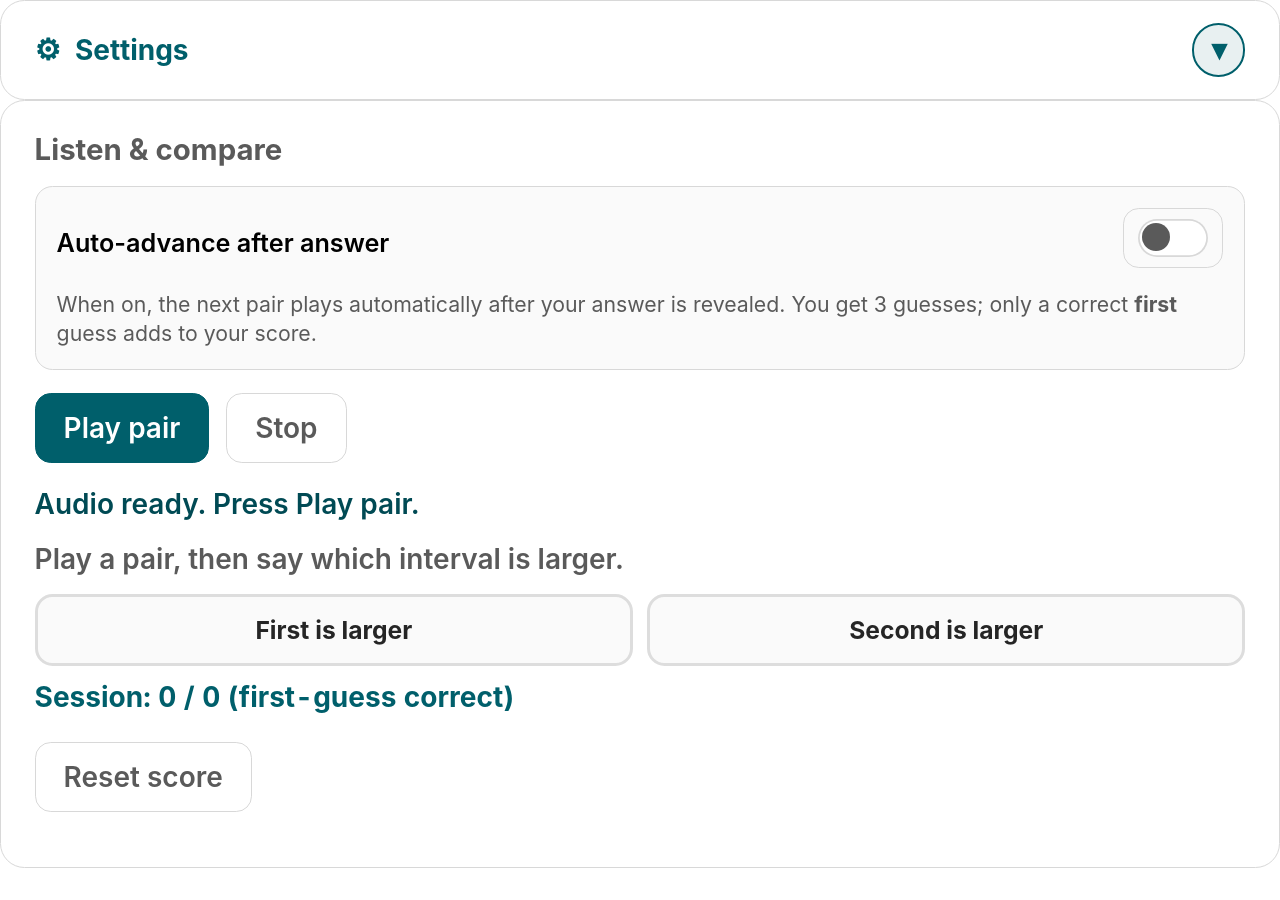
Test case: IntervalComparisonTopic — first-guess scoring (docs/05-topics/08 §7) › counts a first-try correct answer as total+1, correct+1
Click the button "Play pair" at [122, 428], box [35,393,209,463]
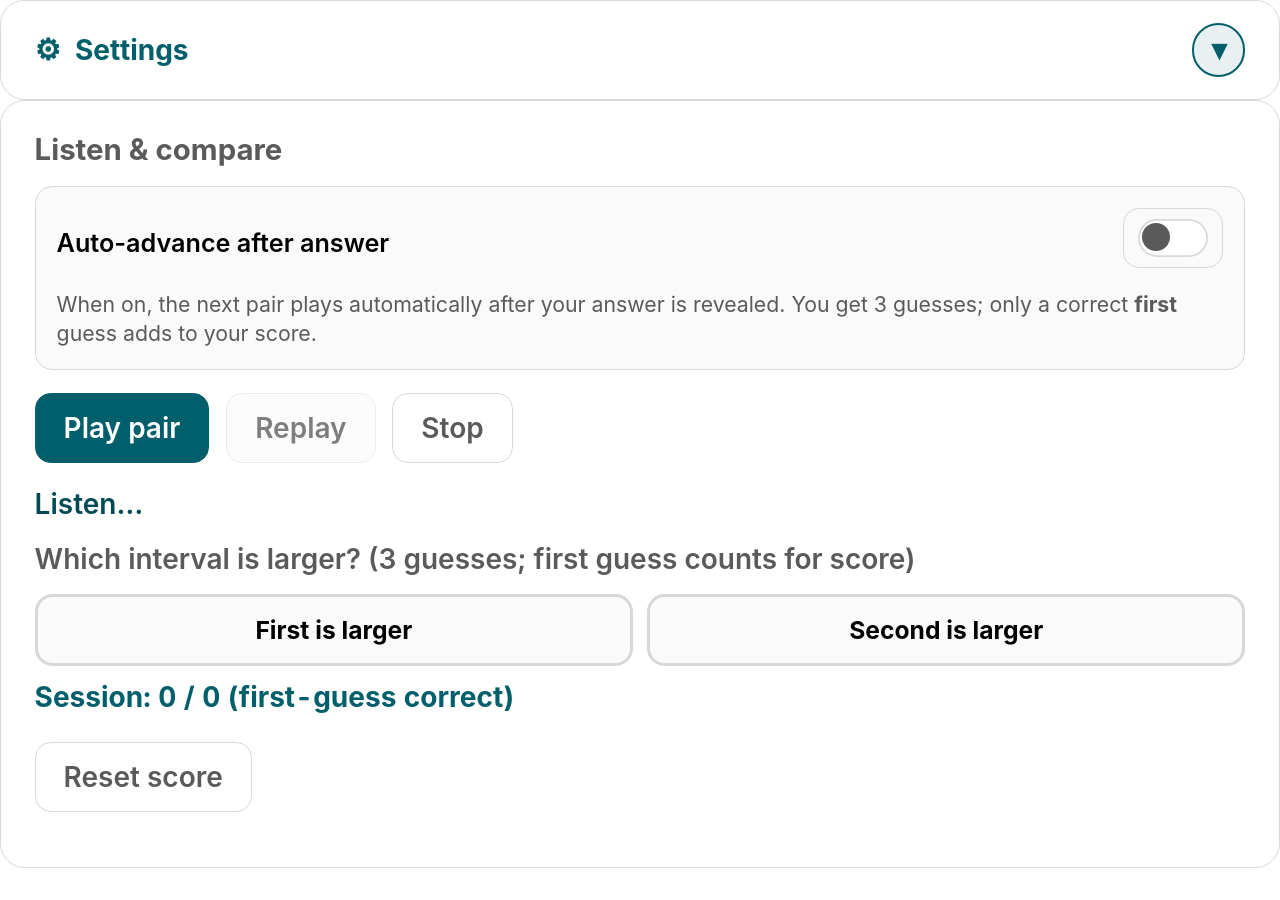
Click the button "Second is larger" at [946, 630], box [647,594,1245,666]
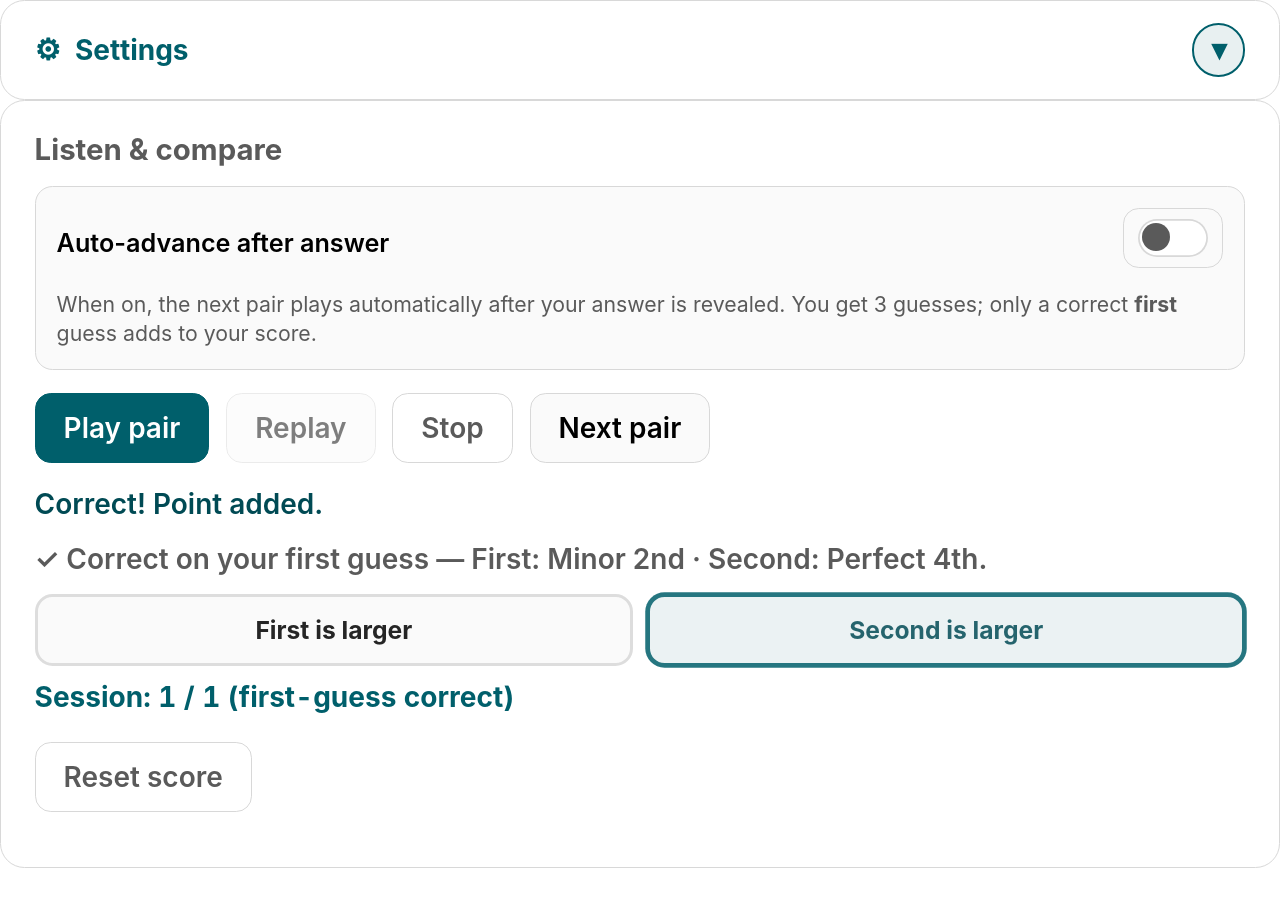
Now the text "Session: 1 / 1 (first-guess correct)" is shown, box [35,680,514,714]
